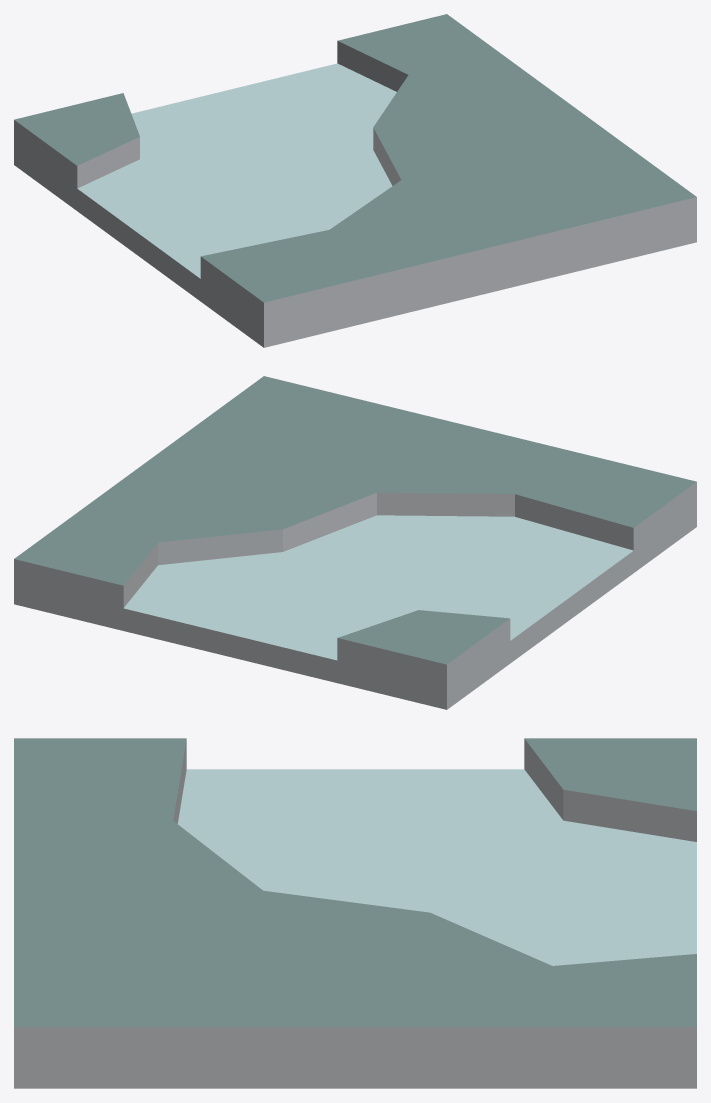
File: Nature River 5.fbx
3 renders of one model, top to bottom at view 1: azimuth 30°, elevation 25°; view 2: azimuth 150°, elevation 25°; view 3: azimuth 270°, elevation 25°, orthographic. The views are drawn at different scales.
Visible parts, largest first — view 1: Nature River 5; view 2: Nature River 5; view 3: Nature River 5.
Boxes of the visible parts, <box> form: Nature River 5: <box>14,14,696,347</box>; Nature River 5: <box>14,376,696,709</box>; Nature River 5: <box>14,738,696,1088</box>.
Size of the model in its own units: 3 by 0.3 by 3.
